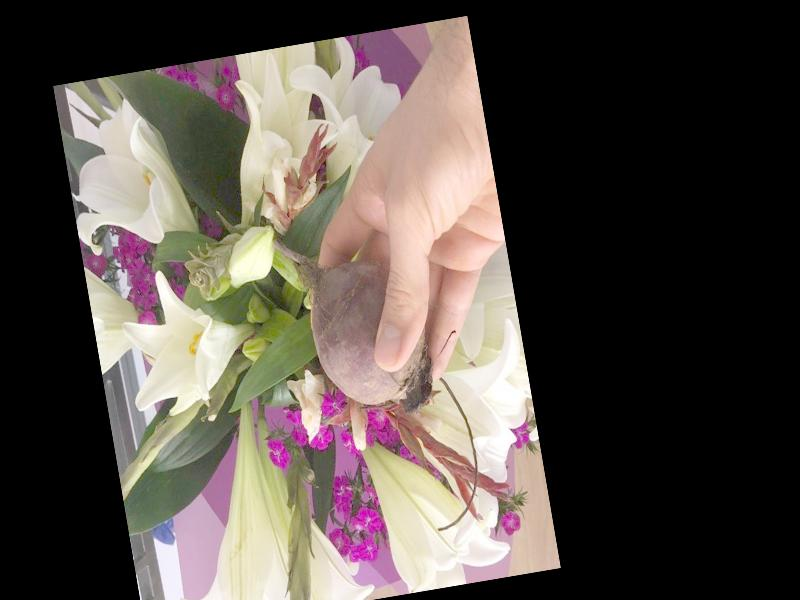Beet: (269, 212, 439, 430)
